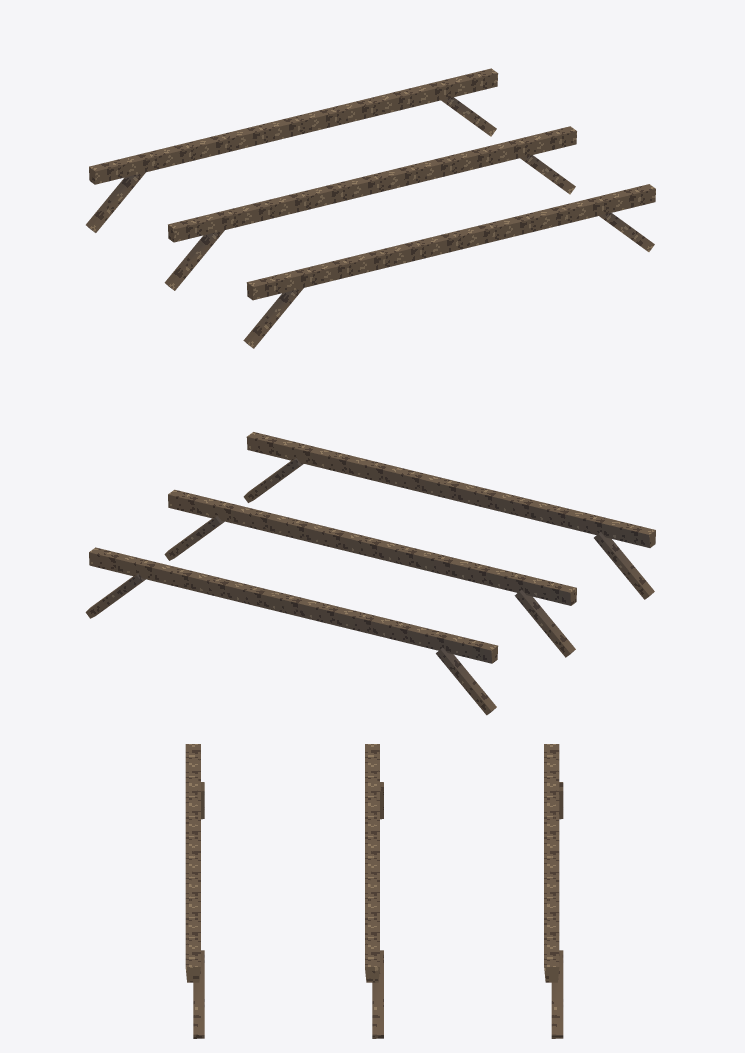
Rendered from cst.ceiling__throne.glb.
3 views of the same model, one above another, from view 1: azimuth 30°, elevation 25°; view 2: azimuth 150°, elevation 25°; view 3: azimuth 270°, elevation 25° (orthographic). The views are drawn at different scales.
Parts seen in each view (by area): view 1: kit_ribs; view 2: kit_ribs; view 3: kit_ribs.
Boxes of the visible parts, x1=… form: kit_ribs: x1=86, y1=68, x2=655, y2=348; kit_ribs: x1=85, y1=432, x2=655, y2=715; kit_ribs: x1=185, y1=744, x2=563, y2=1038.
Size of the model in its own units: 11.16 by 1.71 by 15.
2 materials, 2 textured.
